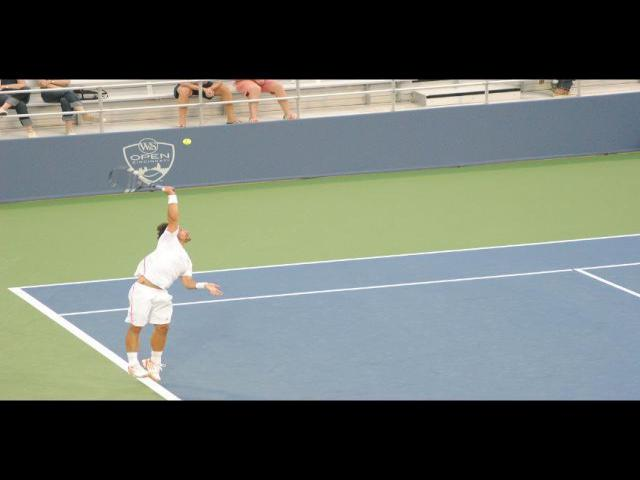tennis-ball: (183, 136, 192, 144)
